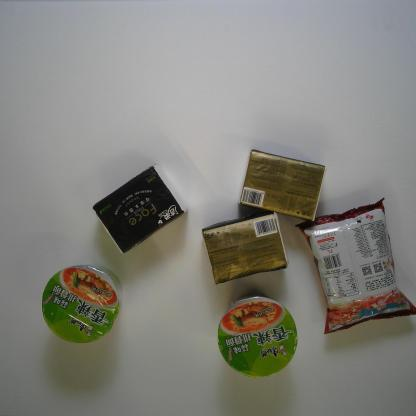Instant Noodles: (217, 295, 299, 379), (41, 264, 121, 344)
Puffed Food: (294, 197, 416, 335)
Tissue: (92, 165, 185, 255), (238, 149, 327, 223), (201, 211, 289, 284)
